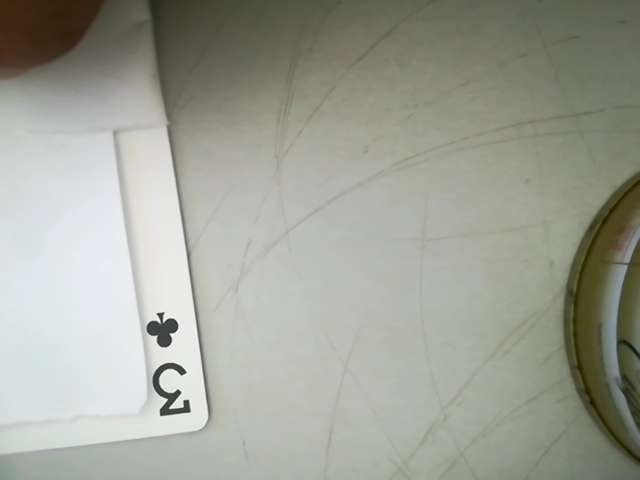mh 3: (131, 295, 203, 427)
